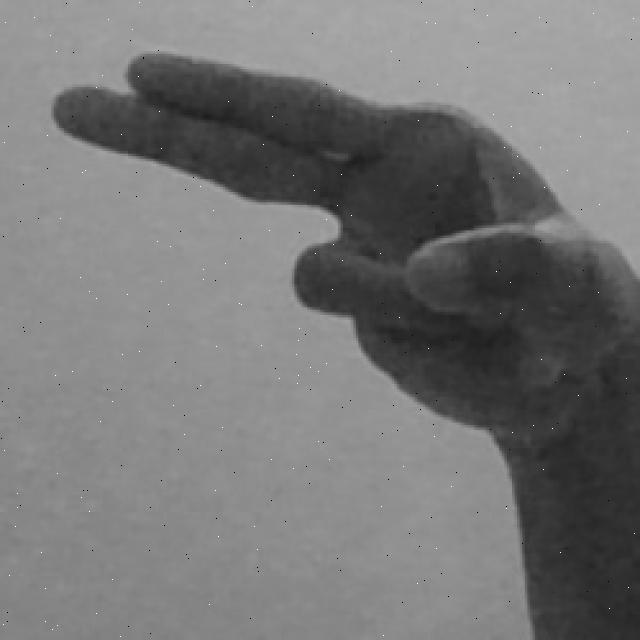H: (41, 41, 640, 637)
